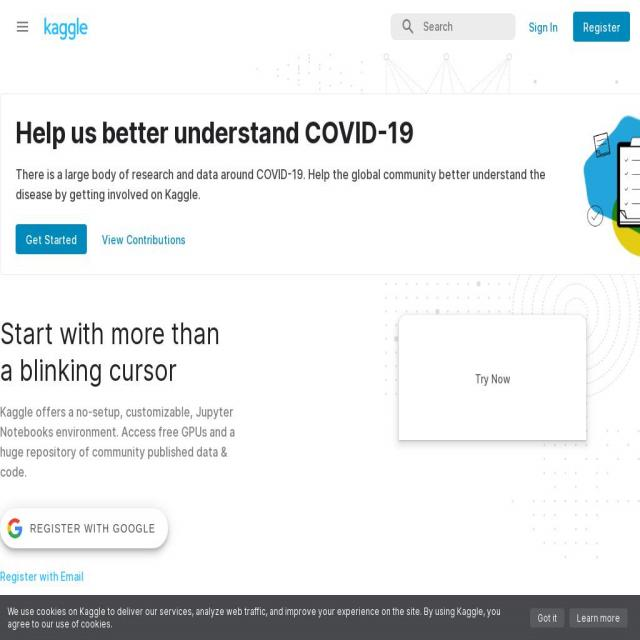button: (0, 508, 168, 548), (97, 224, 191, 254), (15, 224, 86, 254), (573, 12, 630, 42), (464, 364, 520, 394), (40, 12, 91, 44), (523, 12, 563, 42), (569, 608, 628, 628), (12, 11, 33, 43), (532, 608, 563, 628)
field: (390, 13, 516, 41)
